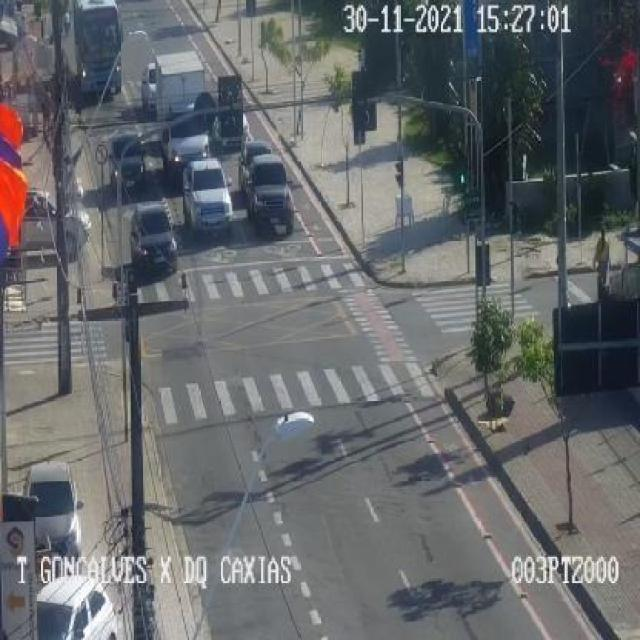Bus: (60, 0, 131, 122)
Car: (242, 159, 304, 248), (128, 202, 176, 272), (186, 159, 231, 233), (110, 129, 151, 198), (218, 101, 252, 141), (144, 63, 158, 110)
Truck: (153, 44, 213, 170)
